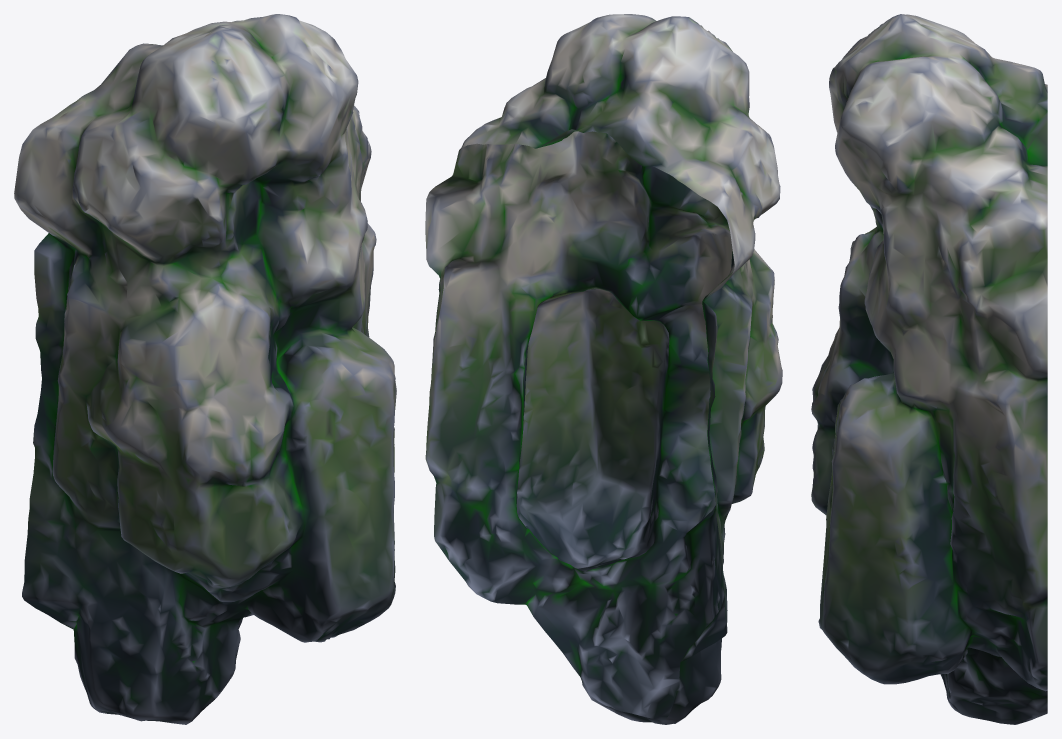
File: M_Cliff_Rock_T14.fbx
3 renders of one model, left to right at view 1: azimuth 30°, elevation 25°; view 2: azimuth 150°, elevation 25°; view 3: azimuth 270°, elevation 25°, orthographic. The views are drawn at different scales.
Visible parts, largest first — view 1: M_Cliff_Rock_T14; view 2: M_Cliff_Rock_T14; view 3: M_Cliff_Rock_T14.
Part boxes in pixels (x1=…): M_Cliff_Rock_T14: x1=14, y1=14, x2=396, y2=724; M_Cliff_Rock_T14: x1=425, y1=14, x2=782, y2=724; M_Cliff_Rock_T14: x1=811, y1=14, x2=1047, y2=724.
Bounding box in the file's own units: 11.39 × 23.09 × 6.95.
